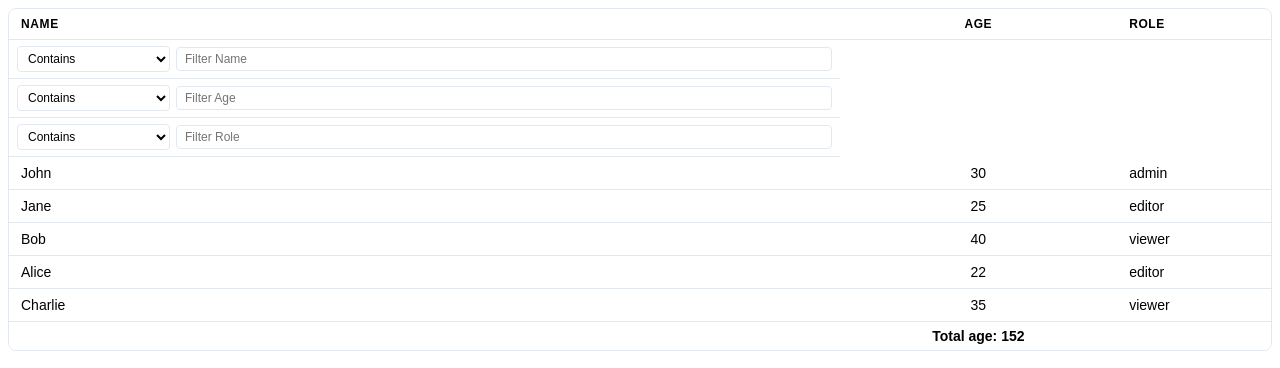
Test: DataGrid — footer aggregates › aggregates the filtered rows, not the raw data
Type "editor" into the field named "Role value" at (504, 137), box 176,125 -> 832,149
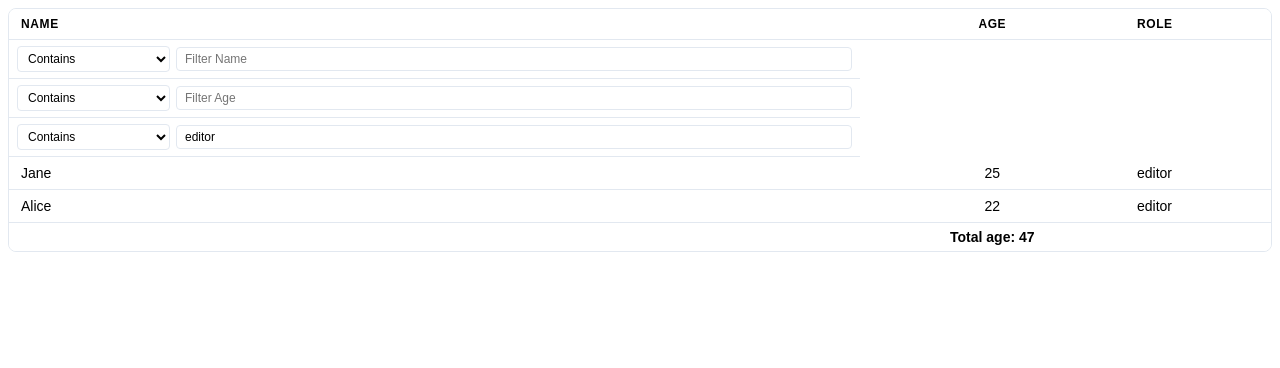
Check: the text "Total age: 47" is shown, box 950,229 -> 1034,245
